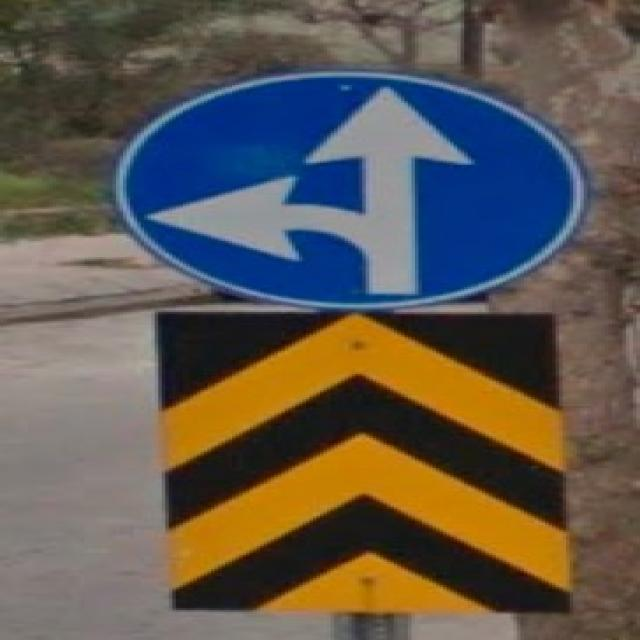Straight or Left: (114, 70, 588, 311)
